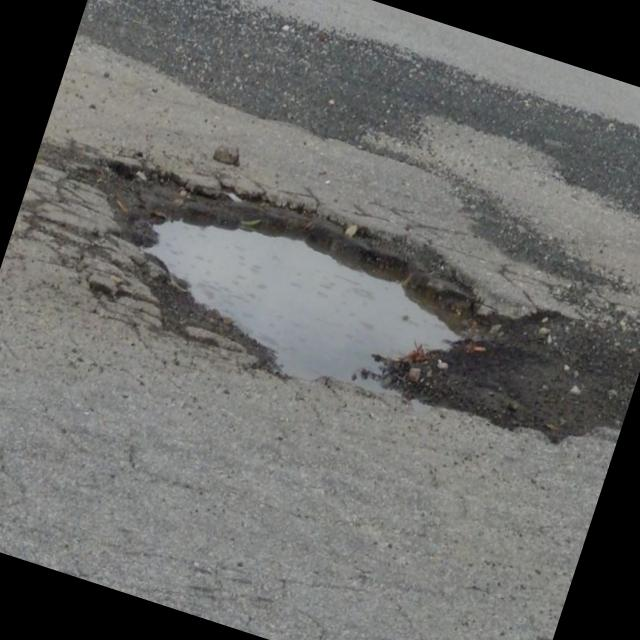Potholes: (58, 105, 578, 474)
